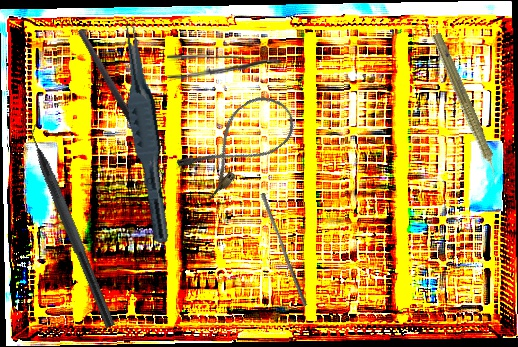Cannula: (173, 84, 304, 204)
Chopper: (17, 111, 130, 329)
Dressing Forceps: (166, 53, 282, 83)
Handpiece: (425, 31, 507, 188)
Hook Surgical: (76, 24, 177, 182)
Pusher: (256, 192, 312, 307)
Tissue Forceps: (110, 17, 183, 245)
